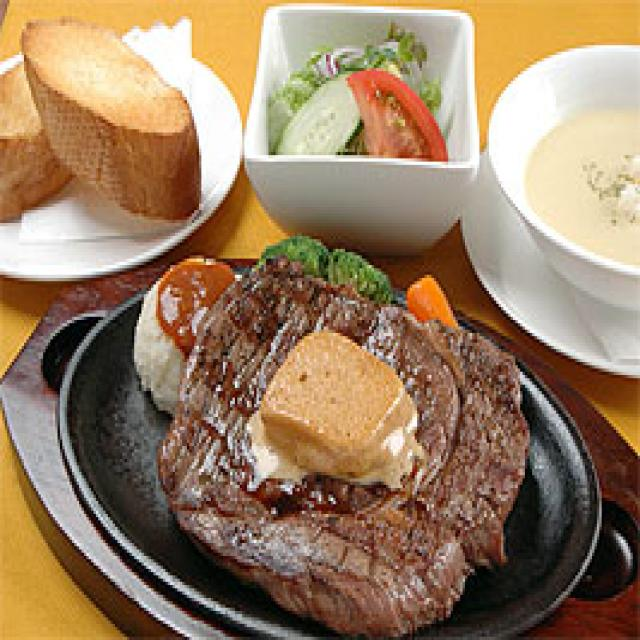牛肉菜式: (149, 242, 532, 640)
